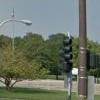traffic lights: (64, 38, 73, 73)
